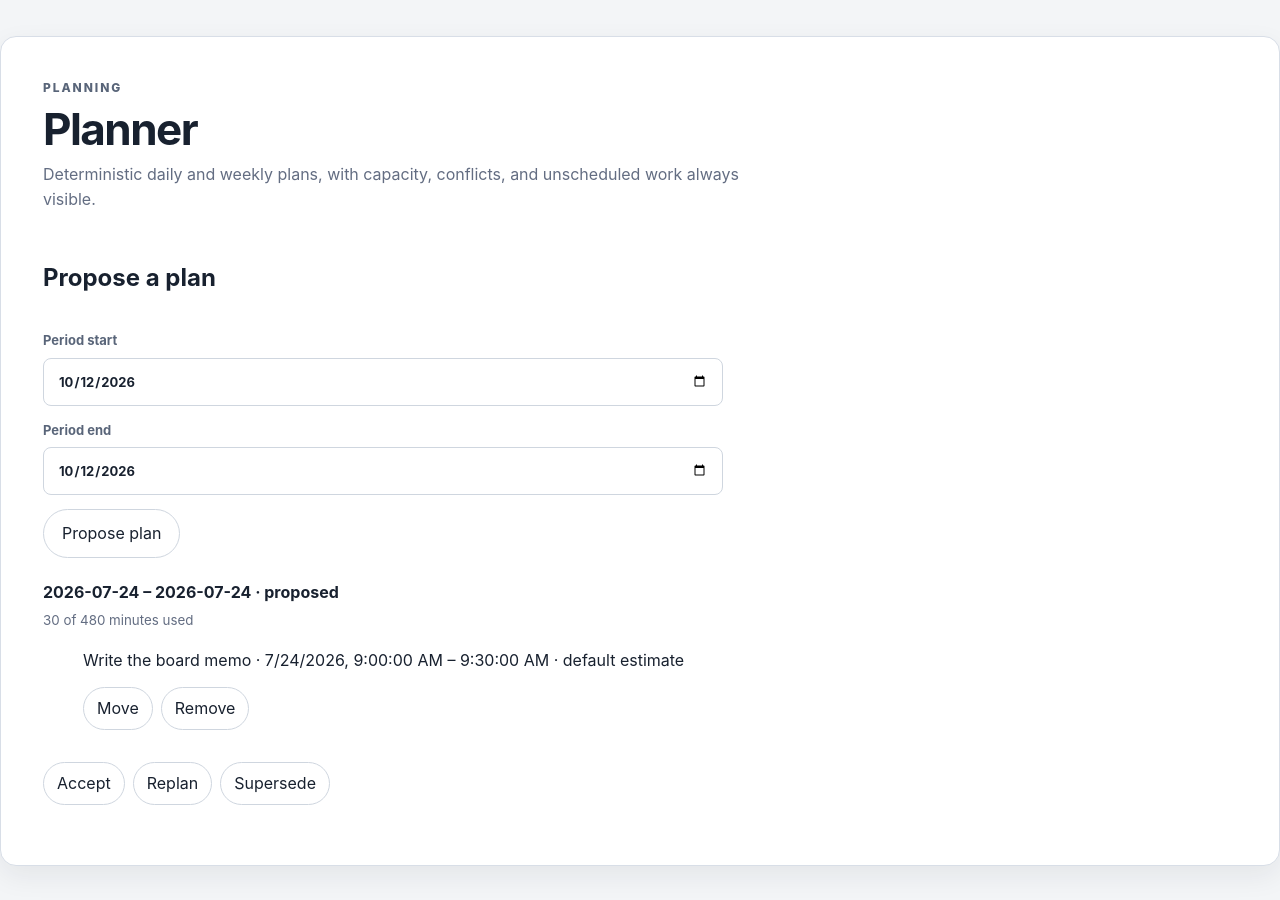
Test: Planner › refetches plans after a VERSION_CONFLICT so the next retry uses fresh data
Click the button with aria-label "Accept plan 2026-07-24" at coordinates (84, 783), box [43,762,125,805]
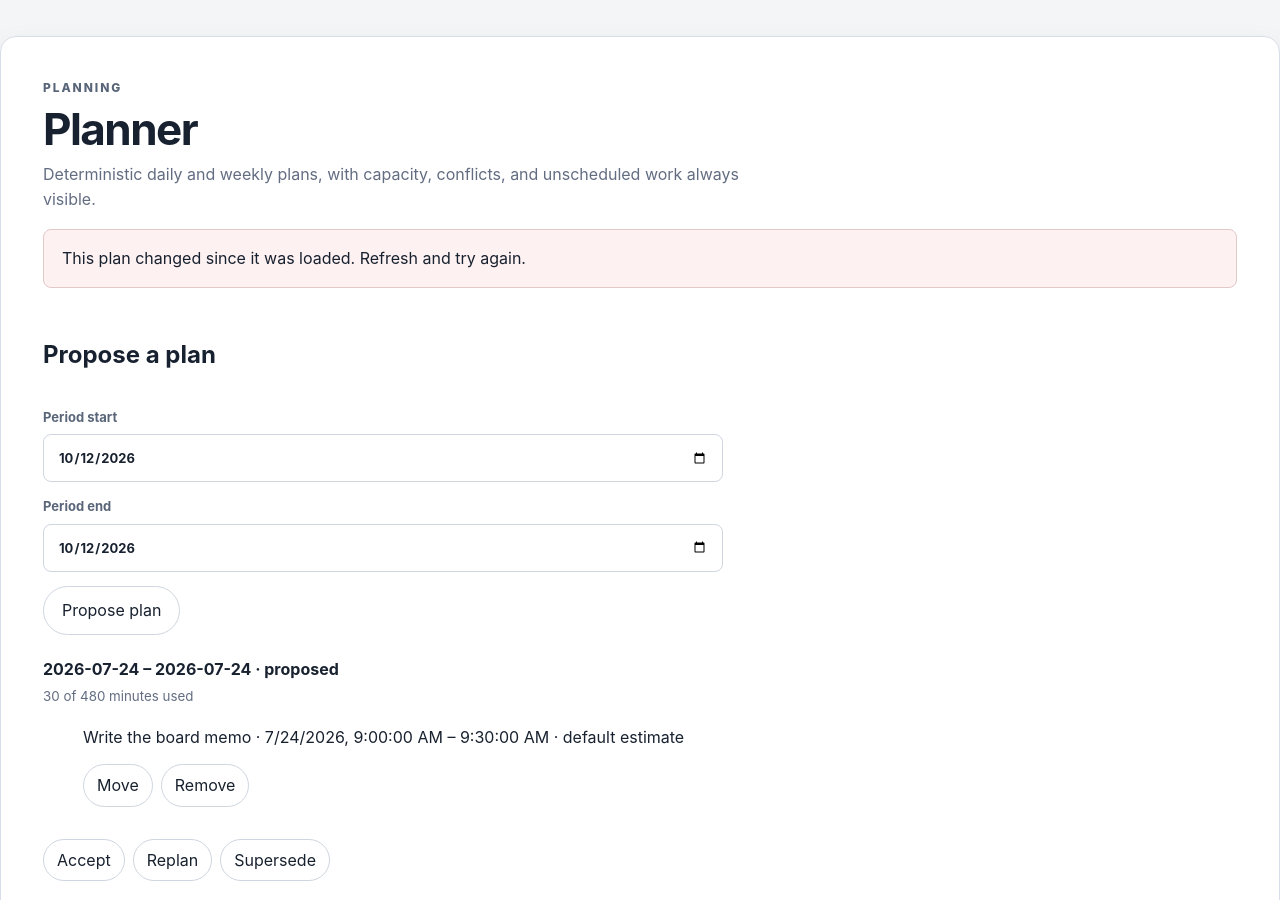
Expected: the message shows "This plan changed since it was loaded", [62,248,526,268]
